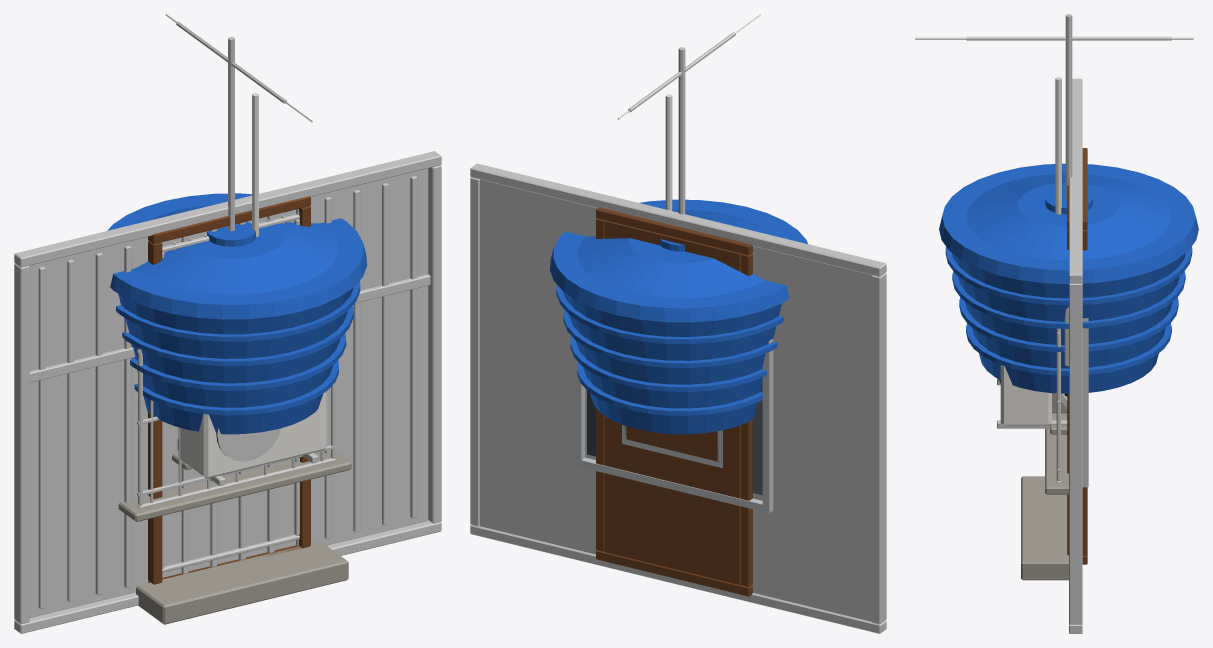
File: kit.glb
3 renders of one model, left to right at view 1: azimuth 30°, elevation 25°; view 2: azimuth 150°, elevation 25°; view 3: azimuth 270°, elevation 25°, orthographic. The views are drawn at different scales.
Parts seen in each view (by area): view 1: Kit_Portao, Kit_Caixa, Kit_Porta, Kit_ArCondicionado, Kit_Janela, Kit_Grade, Kit_Antena, Kit_Medidor; view 2: Kit_Portao, Kit_Caixa, Kit_Porta, Kit_Janela, Kit_Antena, Kit_Medidor, Kit_Basculante; view 3: Kit_Caixa, Kit_Portao, Kit_Porta, Kit_Antena, Kit_ArCondicionado, Kit_Janela, Kit_Medidor, Kit_Grade.
Part boxes in pixels (x1,y1,x2,y2): Kit_Portao: (14, 151, 441, 633); Kit_Caixa: (107, 193, 367, 434); Kit_Porta: (136, 196, 348, 624); Kit_ArCondicionado: (177, 390, 327, 485); Kit_Janela: (118, 366, 351, 521); Kit_Grade: (137, 348, 336, 507); Kit_Antena: (165, 14, 312, 231); Kit_Medidor: (252, 93, 258, 236); Kit_Portao: (470, 163, 886, 633); Kit_Caixa: (550, 199, 807, 434); Kit_Porta: (596, 207, 752, 596); Kit_Janela: (574, 339, 773, 513); Kit_Antena: (617, 14, 760, 214); Kit_Medidor: (665, 94, 672, 210); Kit_Basculante: (622, 425, 722, 468); Kit_Caixa: (939, 163, 1198, 393); Kit_Portao: (1064, 78, 1082, 633); Kit_Porta: (1021, 148, 1087, 580); Kit_Antena: (915, 14, 1193, 199); Kit_ArCondicionado: (997, 365, 1067, 428); Kit_Janela: (1045, 318, 1088, 494); Kit_Medidor: (1052, 77, 1067, 413); Kit_Grade: (1056, 328, 1060, 482).
Size of the model in its own units: 2.72 by 3.37 by 1.66.
